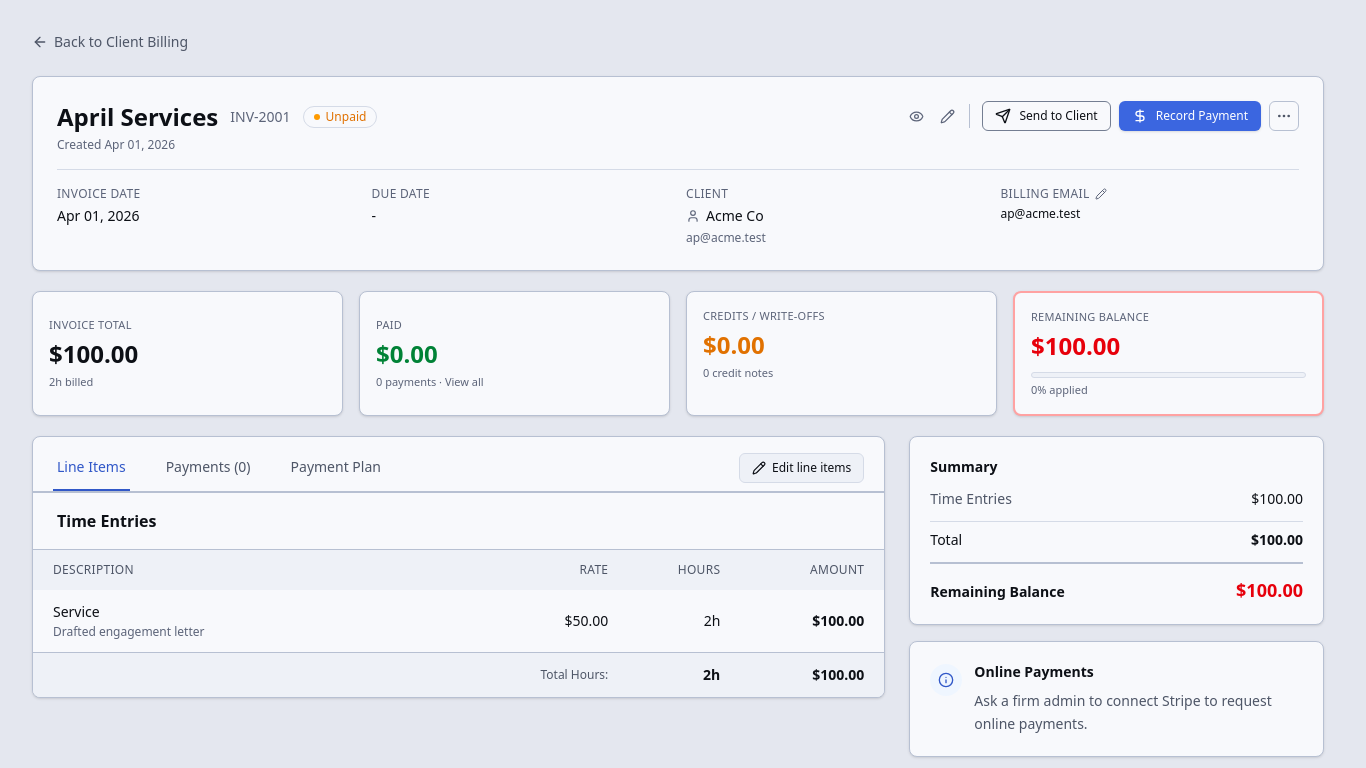
refuses a third decimal place and sends nothing
The image size is (1366, 768).
Click the button "Payment Plan".
click(336, 468)  # box [287,445,385,491]
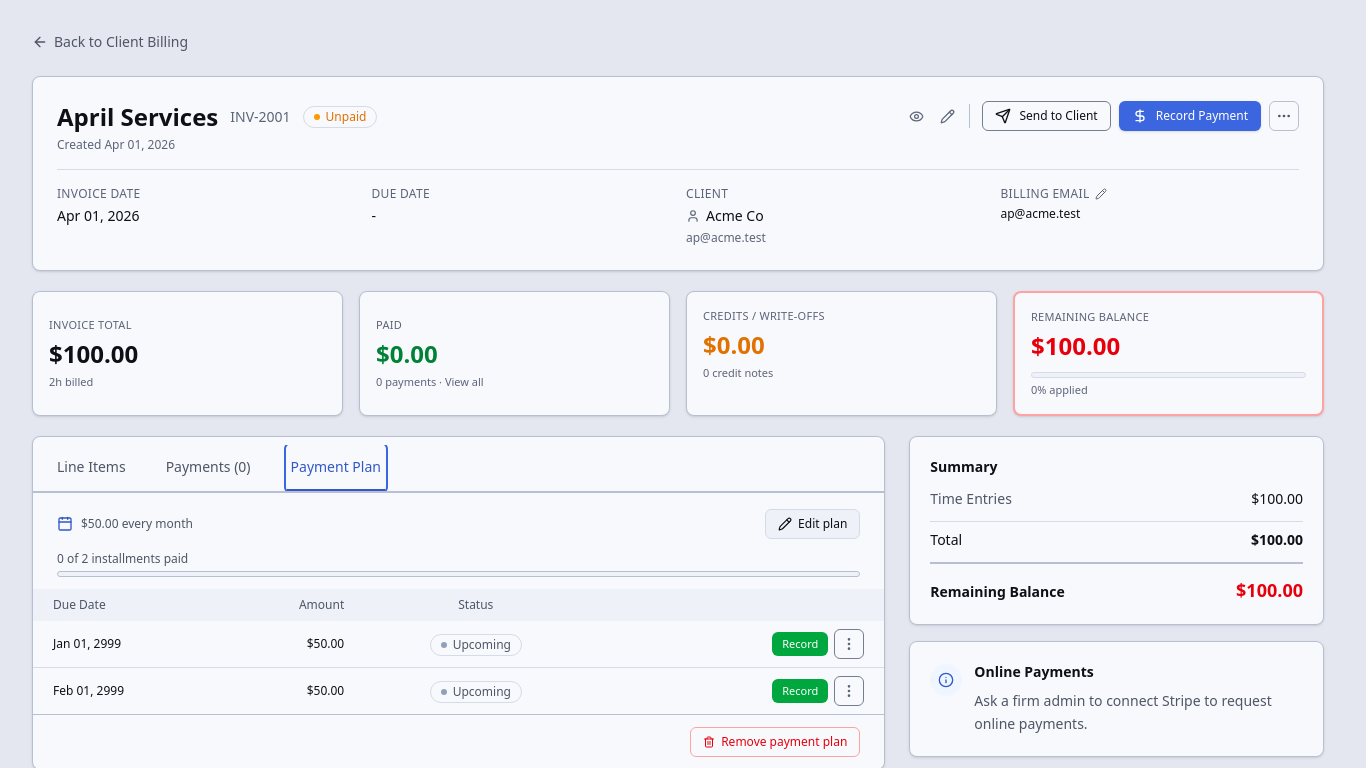
Click the button "Edit plan".
click(813, 524)  # box [765,509,860,539]
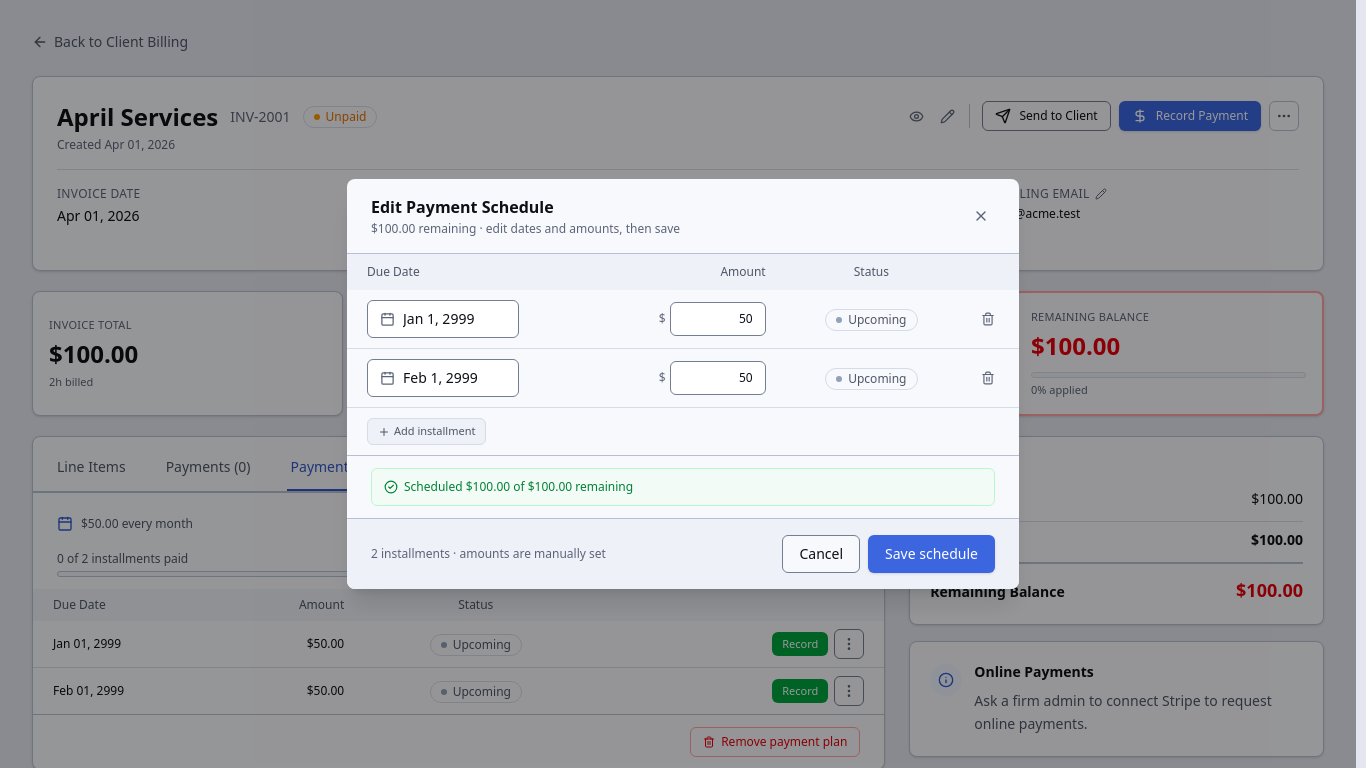
Replace the text in the 1st number field with placeholder "0.00" with "50.004" at (718, 319), box [670,302,766,336]
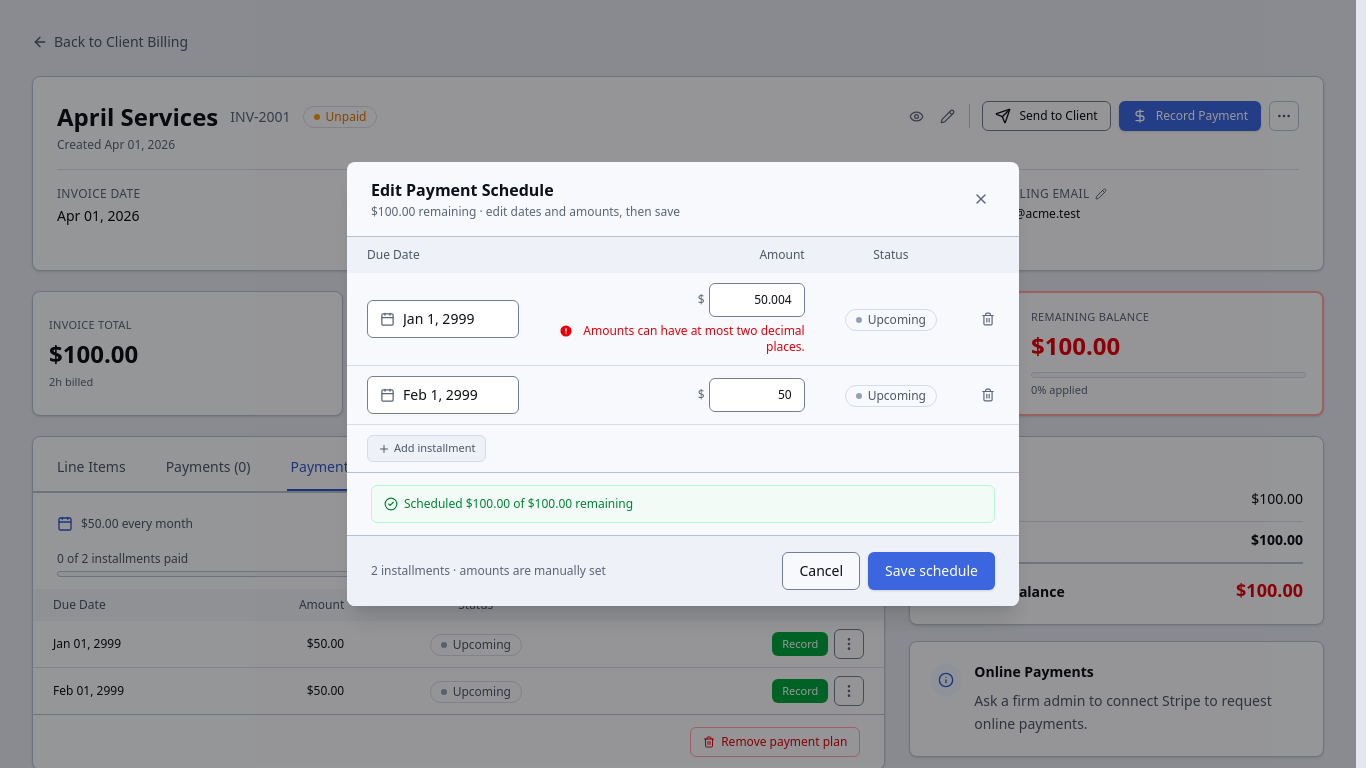
Replace the text in the 2nd number field with placeholder "0.00" with "49.996" at (757, 395), box [709,378,805,412]
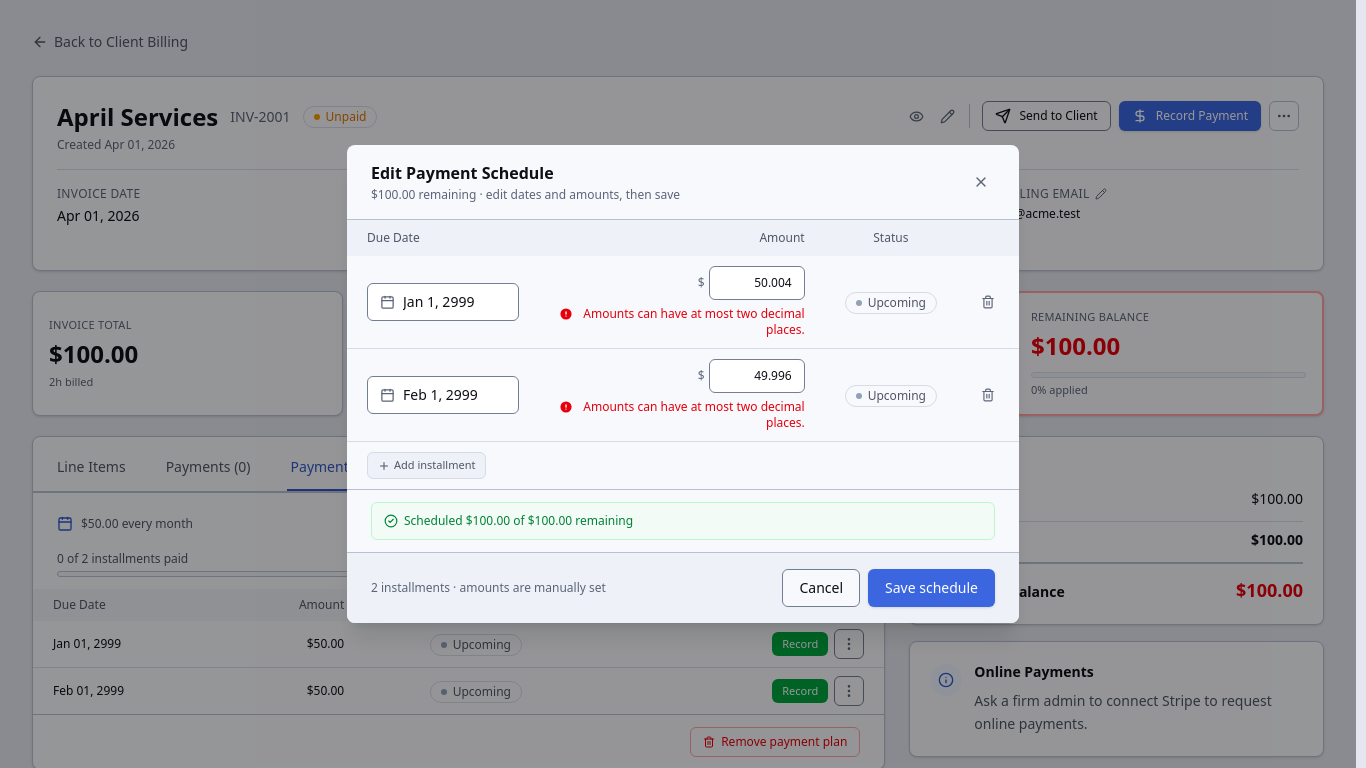
Click the button "Save schedule".
click(932, 588)  # box [868,569,995,607]
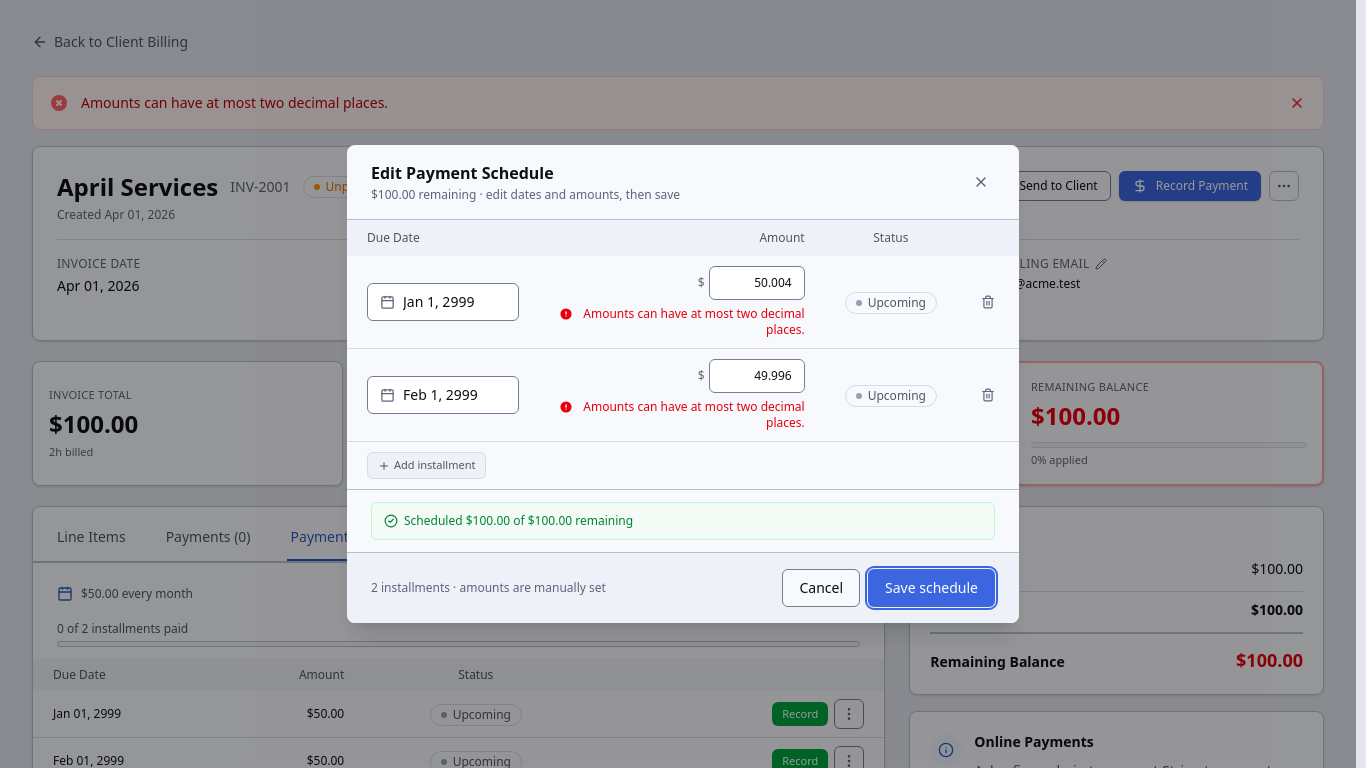
Check: the 1st text "Amounts can have at most two decimal places." is shown, box [81,93,388,112]
